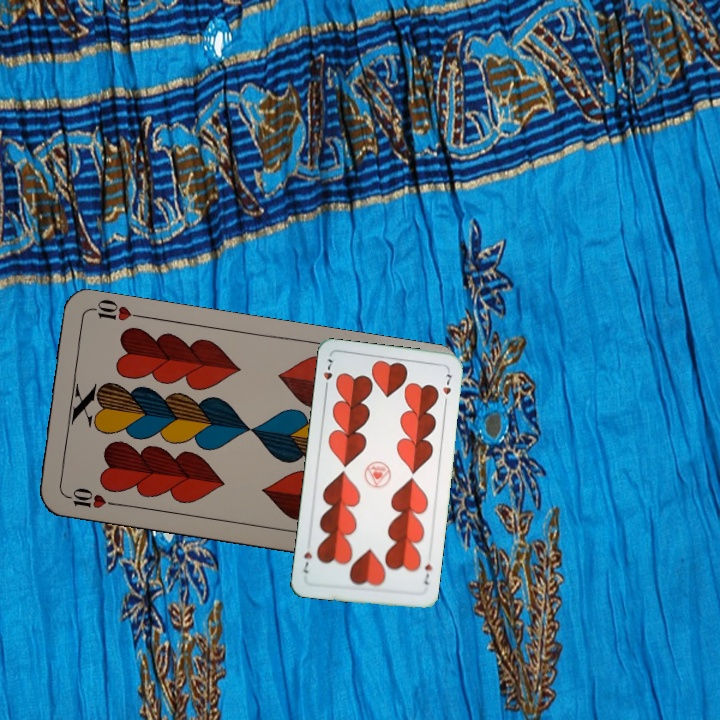H10: (60, 483, 119, 511)
H7: (319, 355, 335, 394), (420, 560, 434, 587)
